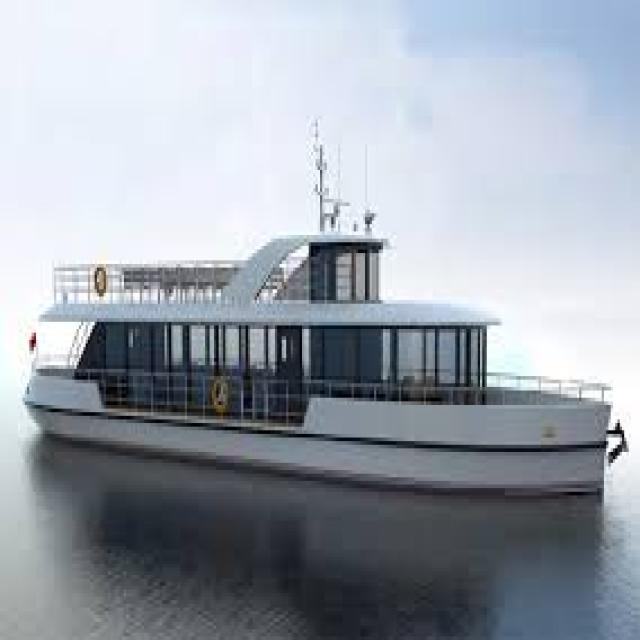passenger ship: (30, 174, 610, 486)
